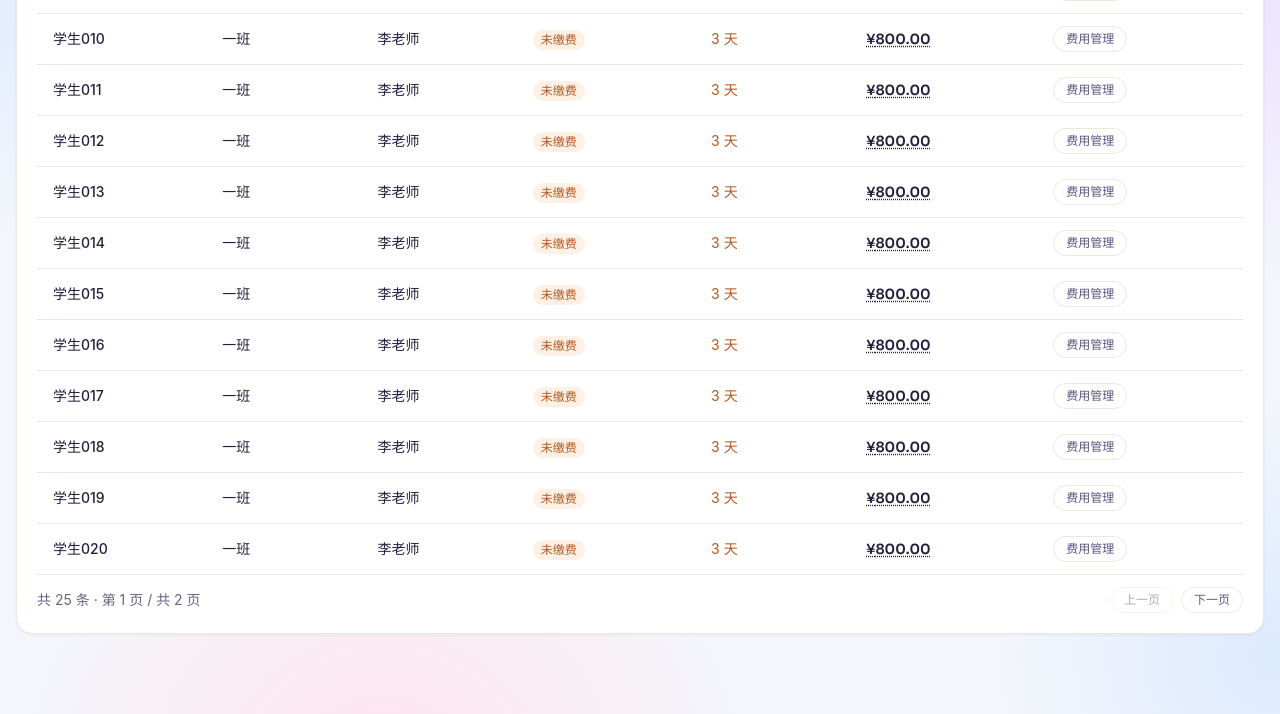
it: AdminBillingModule › shows only 20 rows on the first page, advancing to the rest via the pagination control
The image size is (1280, 714).
(page scrolled)
Expected: the text "学生020" is shown, [37,524,206,574]
Expected: the text "学生021" is not shown
Click the button "下一页" at (1212, 600), box [1181,587,1243,613]
(page scrolled)
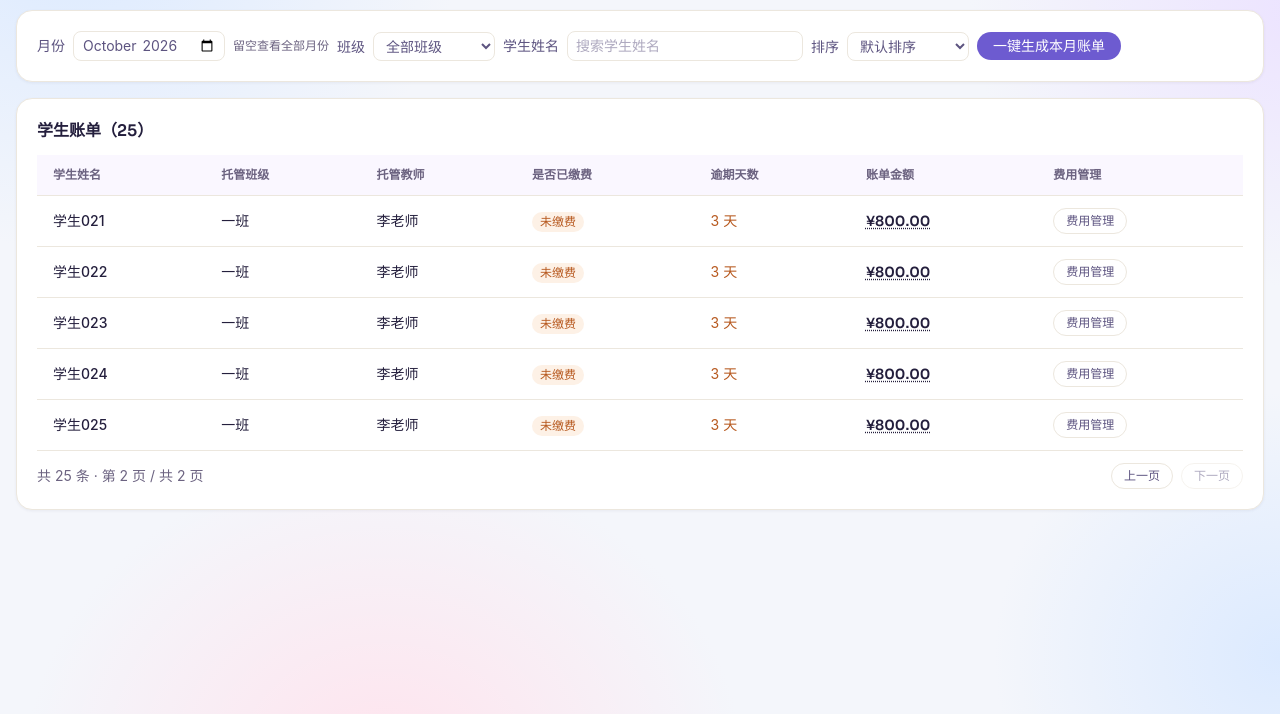
Now the text "学生021" is shown, box [37,196,205,246]
Now the text "学生025" is shown, box [37,400,205,450]
